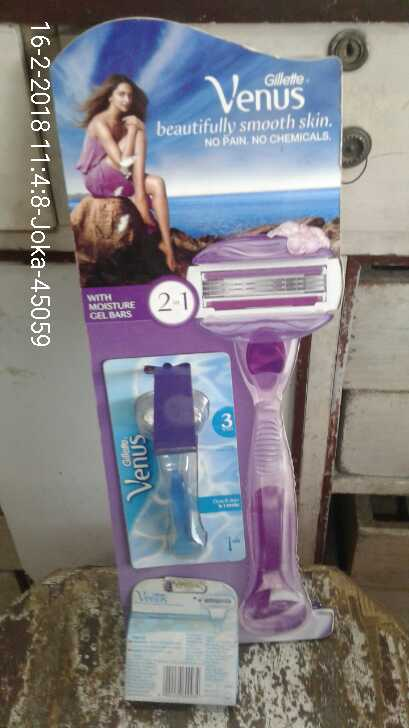venus: (95, 351, 242, 566)
